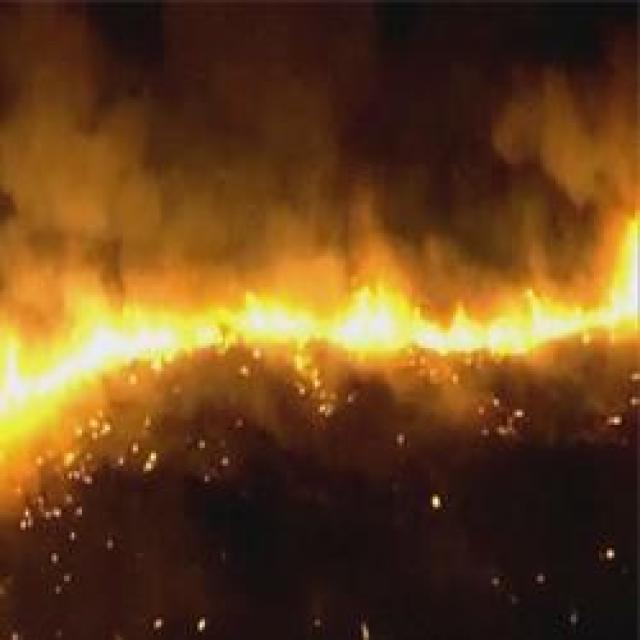Fire: (0, 217, 640, 465)
Smoke: (0, 0, 640, 258)
